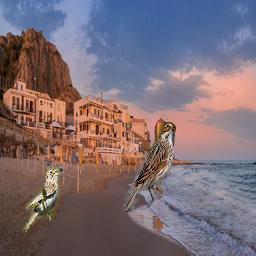Sparrow: (124, 122, 177, 212), (24, 168, 61, 233)
